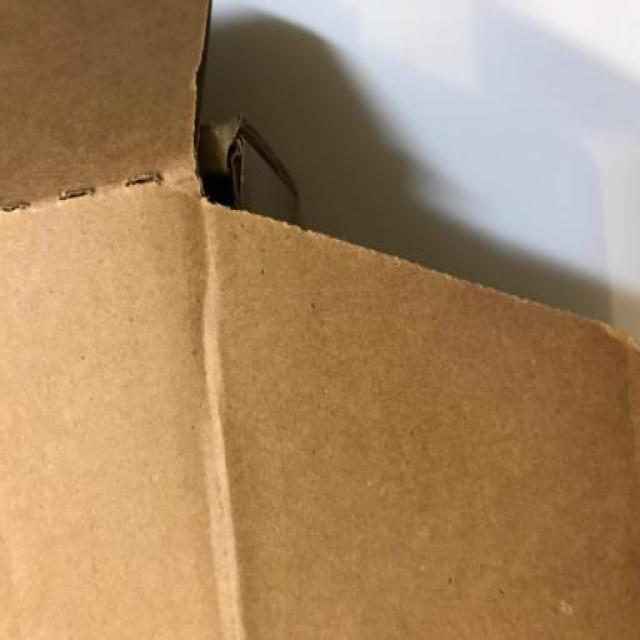Cardboard: (0, 0, 638, 640)
